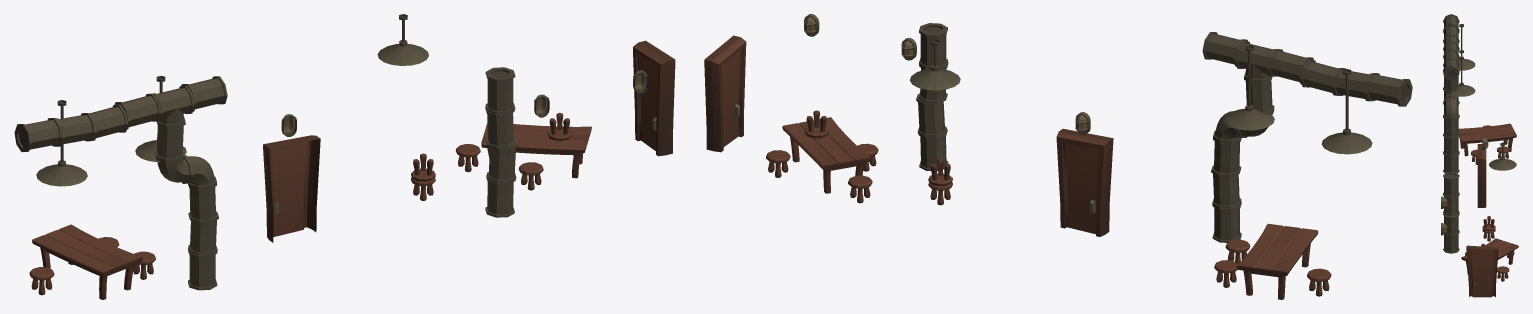
File: SM_Setdressing_Level1_Long_Hangout.fbx
The picture shows the model from 3 angles, left to right: view 1: azimuth 30°, elevation 25°; view 2: azimuth 150°, elevation 25°; view 3: azimuth 270°, elevation 25°; orthographic projection. The views are drawn at different scales.
Visible parts, largest first — view 1: SM_Setdressing_Level1_Long_Hangout; view 2: SM_Setdressing_Level1_Long_Hangout; view 3: SM_Setdressing_Level1_Long_Hangout.
Boxes of the visible parts, x1,y1,x2,y2 form: SM_Setdressing_Level1_Long_Hangout: (14, 14, 675, 299); SM_Setdressing_Level1_Long_Hangout: (704, 14, 1412, 299); SM_Setdressing_Level1_Long_Hangout: (1441, 14, 1518, 297).
Size of the model in its own units: 2024 by 378 by 601.
